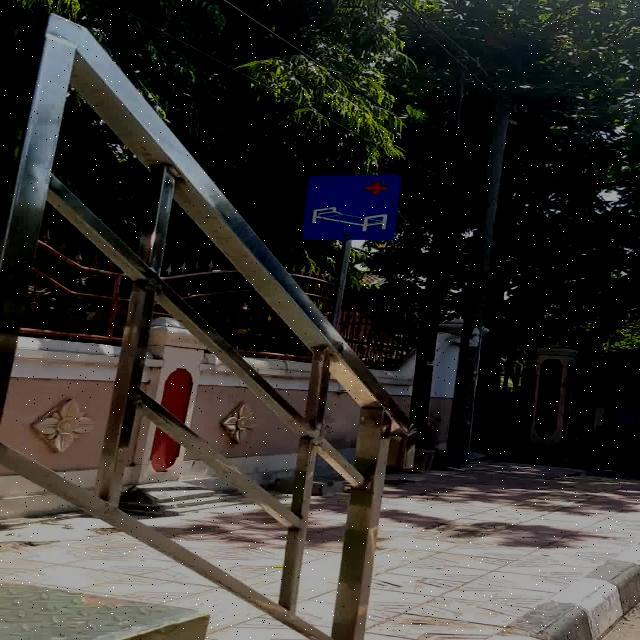Rumah Sakit: (302, 175, 400, 240)
